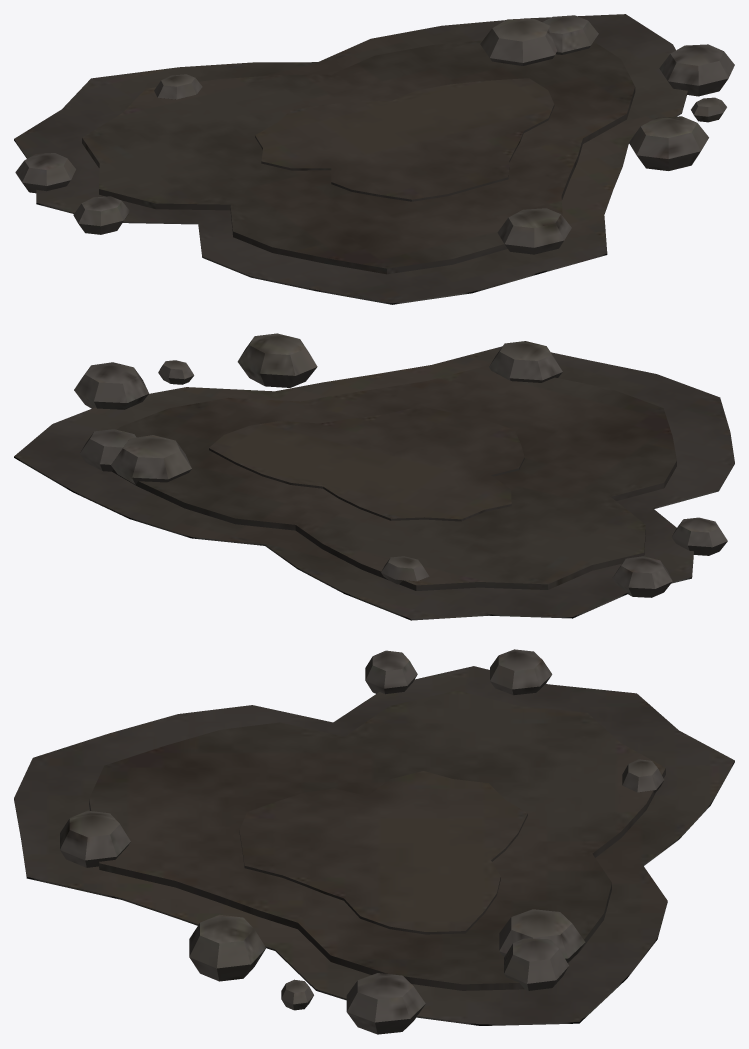
File: crude-oil.glb
The picture shows the model from 3 angles, top to bottom: view 1: azimuth 30°, elevation 25°; view 2: azimuth 150°, elevation 25°; view 3: azimuth 270°, elevation 25°; orthographic projection. The views are drawn at different scales.
Parts seen in each view (by area): view 1: body; view 2: body; view 3: body.
Boxes of the visible parts, x1,y1,x2,y2 form: body: (14, 14, 734, 304); body: (14, 333, 734, 620); body: (14, 649, 734, 1034).
Bounding box in the file's own units: 1.91 × 0.1306 × 1.59.
1 material, 1 textured.
